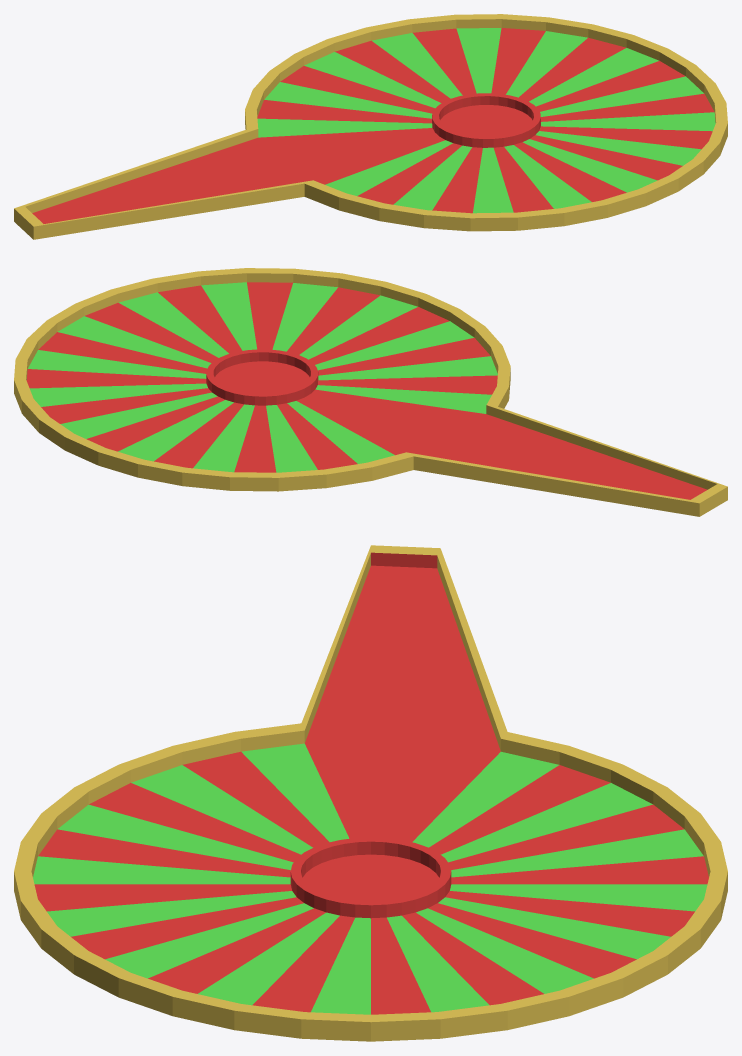
Rendered from FloorBoss.fbx.
3 views of the same model, one above another, from view 1: azimuth 30°, elevation 25°; view 2: azimuth 150°, elevation 25°; view 3: azimuth 270°, elevation 25° (orthographic). The views are drawn at different scales.
Parts seen in each view (by area): view 1: Cylinder; view 2: Cylinder; view 3: Cylinder.
Part boxes in pixels (x1,y1,x2,y2): Cylinder: (14,14,727,239); Cylinder: (14,268,727,516); Cylinder: (14,545,727,1041).
Bounding box in the file's own units: 15804 × 301 × 10000.
